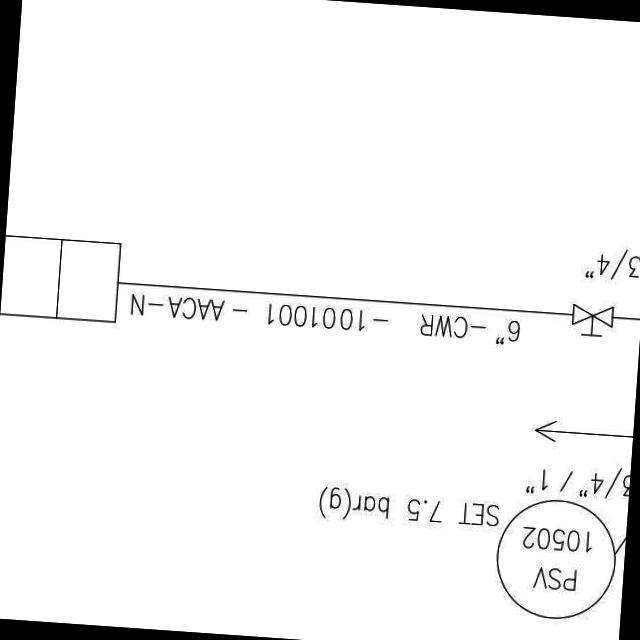HV: (566, 300, 617, 341)
